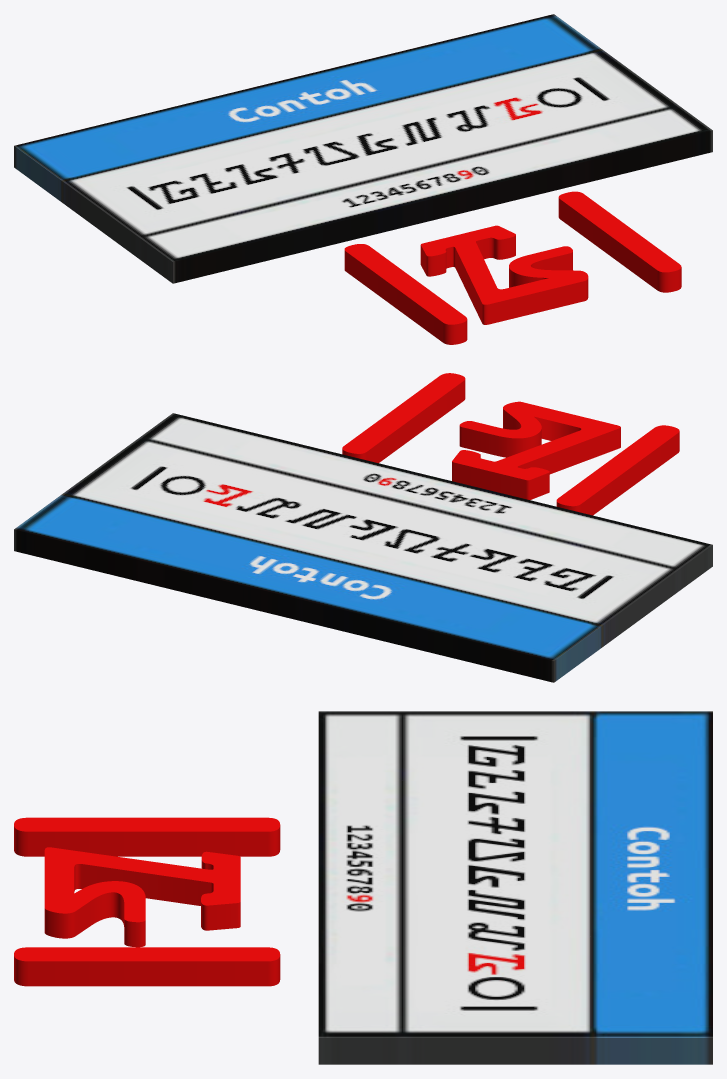
3 views of the same model, one above another, from view 1: azimuth 30°, elevation 25°; view 2: azimuth 150°, elevation 25°; view 3: azimuth 270°, elevation 25° (orthographic). The views are drawn at different scales.
Parts seen in each view (by area): view 1: contoh-9-Angka, Text; view 2: contoh-9-Angka, Text; view 3: contoh-9-Angka, Text.
Part boxes in pixels (x1,y1,x2,y2): contoh-9-Angka: (14, 14, 712, 283); Text: (344, 191, 681, 344); contoh-9-Angka: (14, 413, 712, 682); Text: (342, 373, 679, 515); contoh-9-Angka: (318, 711, 712, 1064); Text: (14, 817, 280, 986).
Size of the model in its own units: 1.96 by 0.11 by 1.77.
2 materials, 1 textured.
